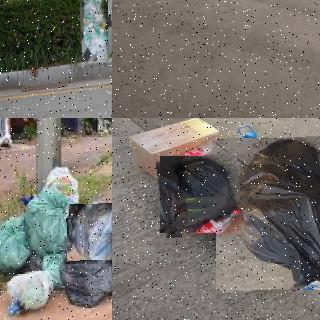Garbage: (214, 137, 320, 292), (158, 154, 243, 236), (24, 187, 84, 252), (67, 203, 112, 260), (6, 266, 58, 315), (0, 215, 32, 268), (45, 162, 83, 206), (81, 0, 108, 61)
